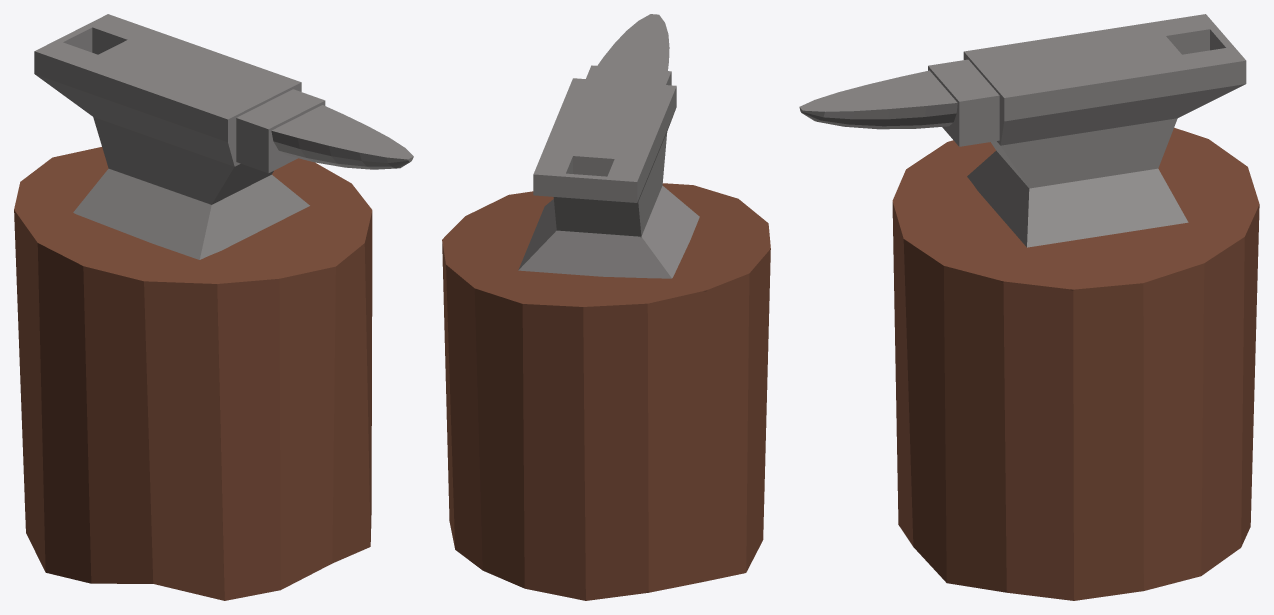
The model's file is anvill.fbx.
3 views of the same model, side by side, from view 1: azimuth 30°, elevation 25°; view 2: azimuth 150°, elevation 25°; view 3: azimuth 270°, elevation 25° (orthographic). The views are drawn at different scales.
Visible parts, largest first — view 1: anvill-suport; view 2: anvill-suport; view 3: anvill-suport.
Part boxes in pixels (box(x1,y1,x2,y2)): anvill-suport: box(14, 14, 413, 600); anvill-suport: box(442, 14, 770, 600); anvill-suport: box(799, 14, 1259, 600).
Bounding box in the file's own units: 148 × 209 × 185.
